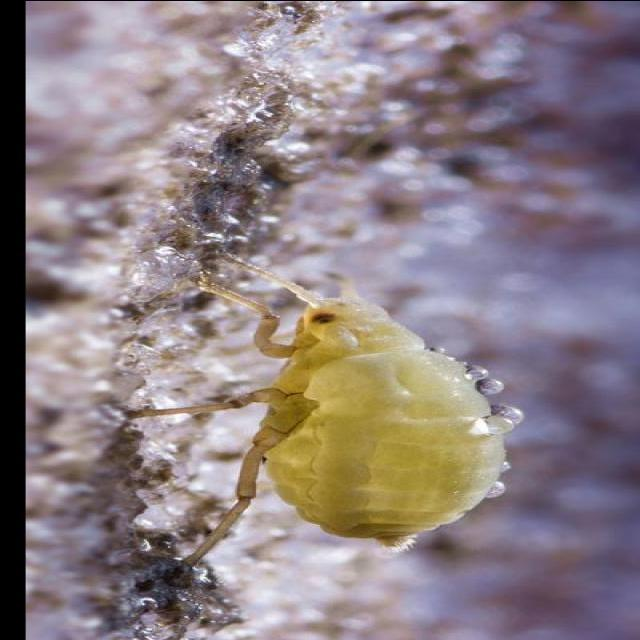aphid: (98, 220, 552, 576)
